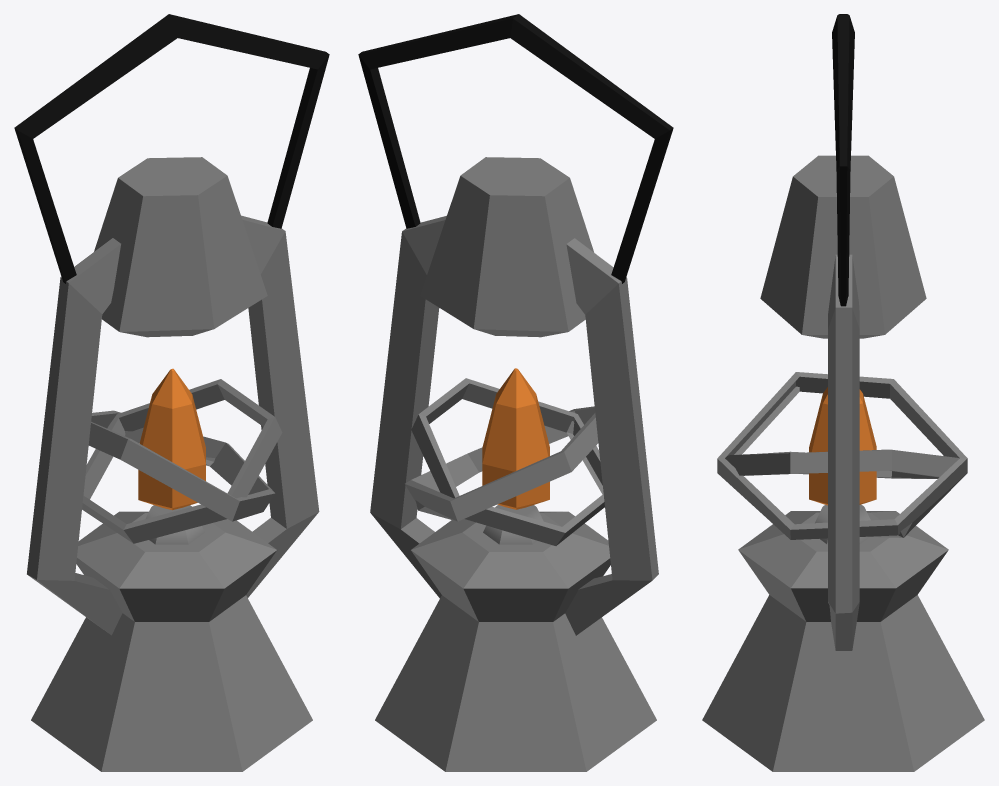
The model's file is Dray_Lantern_Flame.fbx.
3 views of the same model, side by side, from view 1: azimuth 30°, elevation 25°; view 2: azimuth 150°, elevation 25°; view 3: azimuth 270°, elevation 25° (orthographic).
Visible parts, largest first — view 1: SM_Lantern_Flame_Dray, Lantern_Top, Lantern_Arm_1, Lantern_Arm_2, Lantern_Handle, MetalWrapping_2, MetalWrapping_1, LowPoly_Flame; view 2: SM_Lantern_Flame_Dray, Lantern_Top, Lantern_Arm_1, Lantern_Arm_2, Lantern_Handle, MetalWrapping_2, MetalWrapping_1, LowPoly_Flame; view 3: SM_Lantern_Flame_Dray, Lantern_Top, Lantern_Arm_2, MetalWrapping_1, Lantern_Handle, MetalWrapping_2, LowPoly_Flame.
Part boxes in pixels (<box>): SM_Lantern_Flame_Dray: <box>31,505,312,771</box>; Lantern_Top: <box>94,157,267,337</box>; Lantern_Arm_1: <box>27,238,122,635</box>; Lantern_Arm_2: <box>241,215,319,597</box>; Lantern_Handle: <box>14,14,329,283</box>; MetalWrapping_2: <box>82,379,282,543</box>; MetalWrapping_1: <box>88,410,275,521</box>; LowPoly_Flame: <box>138,368,205,510</box>; SM_Lantern_Flame_Dray: <box>375,505,656,771</box>; Lantern_Top: <box>420,157,593,337</box>; Lantern_Arm_1: <box>565,238,658,635</box>; Lantern_Arm_2: <box>370,215,446,598</box>; Lantern_Handle: <box>358,14,673,283</box>; MetalWrapping_2: <box>411,378,604,545</box>; MetalWrapping_1: <box>405,406,598,521</box>; LowPoly_Flame: <box>482,368,549,509</box>; SM_Lantern_Flame_Dray: <box>702,504,984,771</box>; Lantern_Top: <box>760,155,926,338</box>; Lantern_Arm_2: <box>828,254,859,650</box>; MetalWrapping_1: <box>717,372,967,539</box>; Lantern_Handle: <box>832,14,854,306</box>; MetalWrapping_2: <box>725,449,959,478</box>; LowPoly_Flame: <box>809,387,876,505</box>.
Bounding box in the file's own units: 51.66 × 112 × 40.55.
